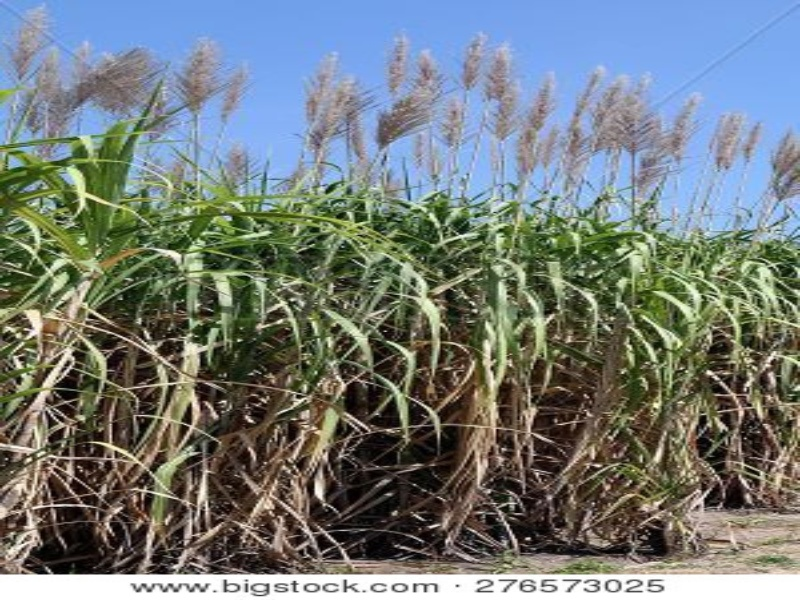sugarcane: (366, 24, 800, 531), (1, 4, 370, 561)
